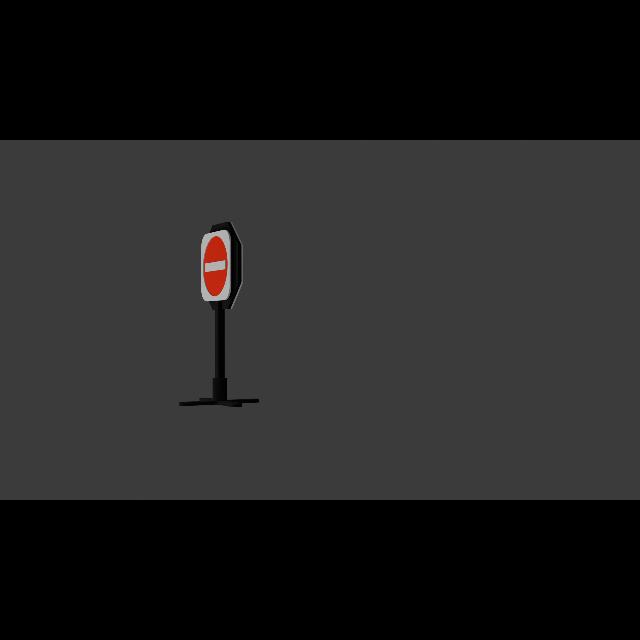sign_noentry: (200, 231, 237, 303)
